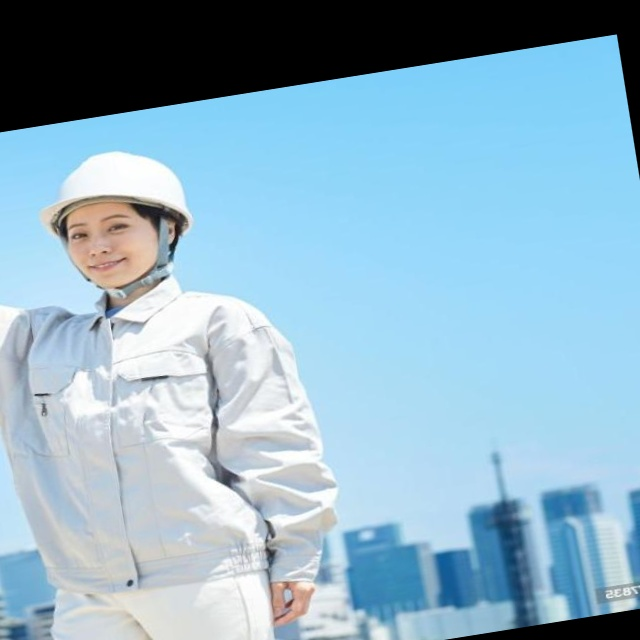Con_Casco: (31, 137, 206, 291)
Sin_Chaleco: (4, 267, 300, 594)
